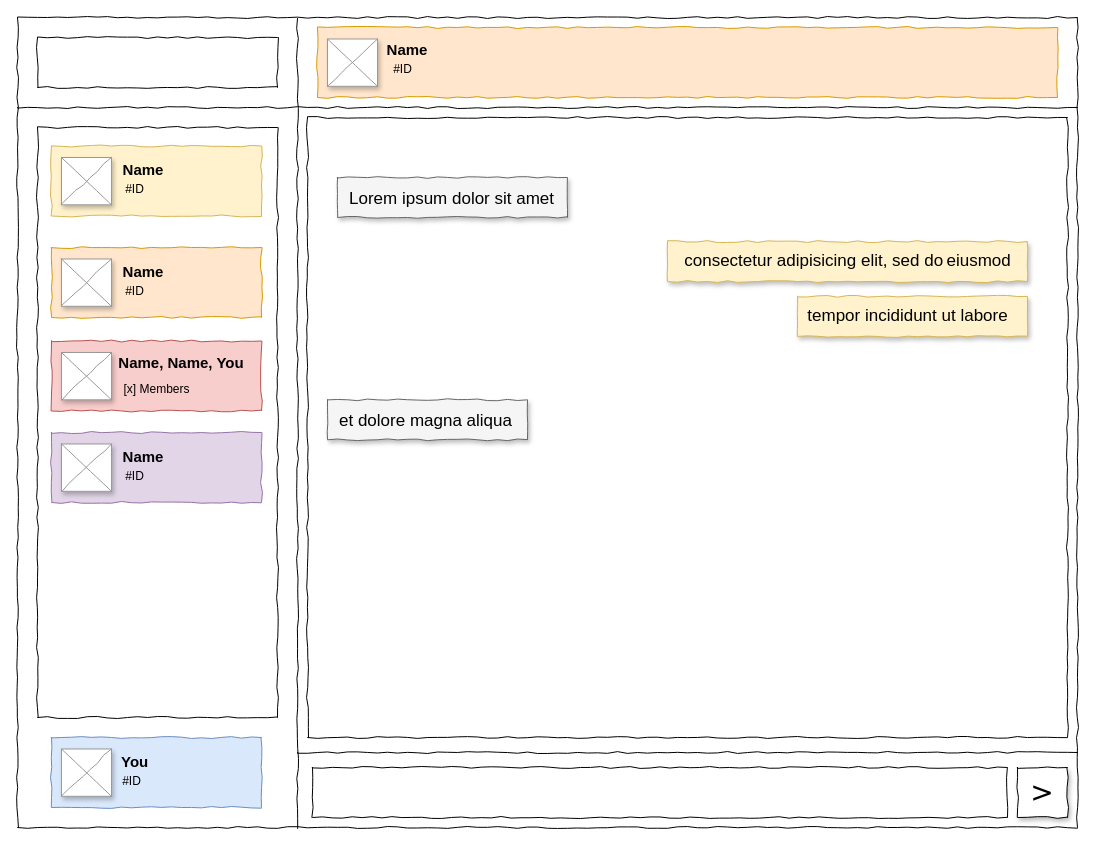
The diagram is 1095 pixels wide and 846 high, and some of its shapes have lost their labels. Here are the shapes that lost their labels. From the top down, the centre of each, then its label:
At (x=157, y=62): "LOGO".
At (x=660, y=792): "INPUT FIELD".
